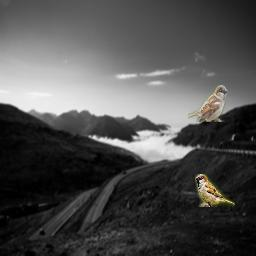Sparrow: (188, 85, 228, 122), (195, 174, 235, 207)
